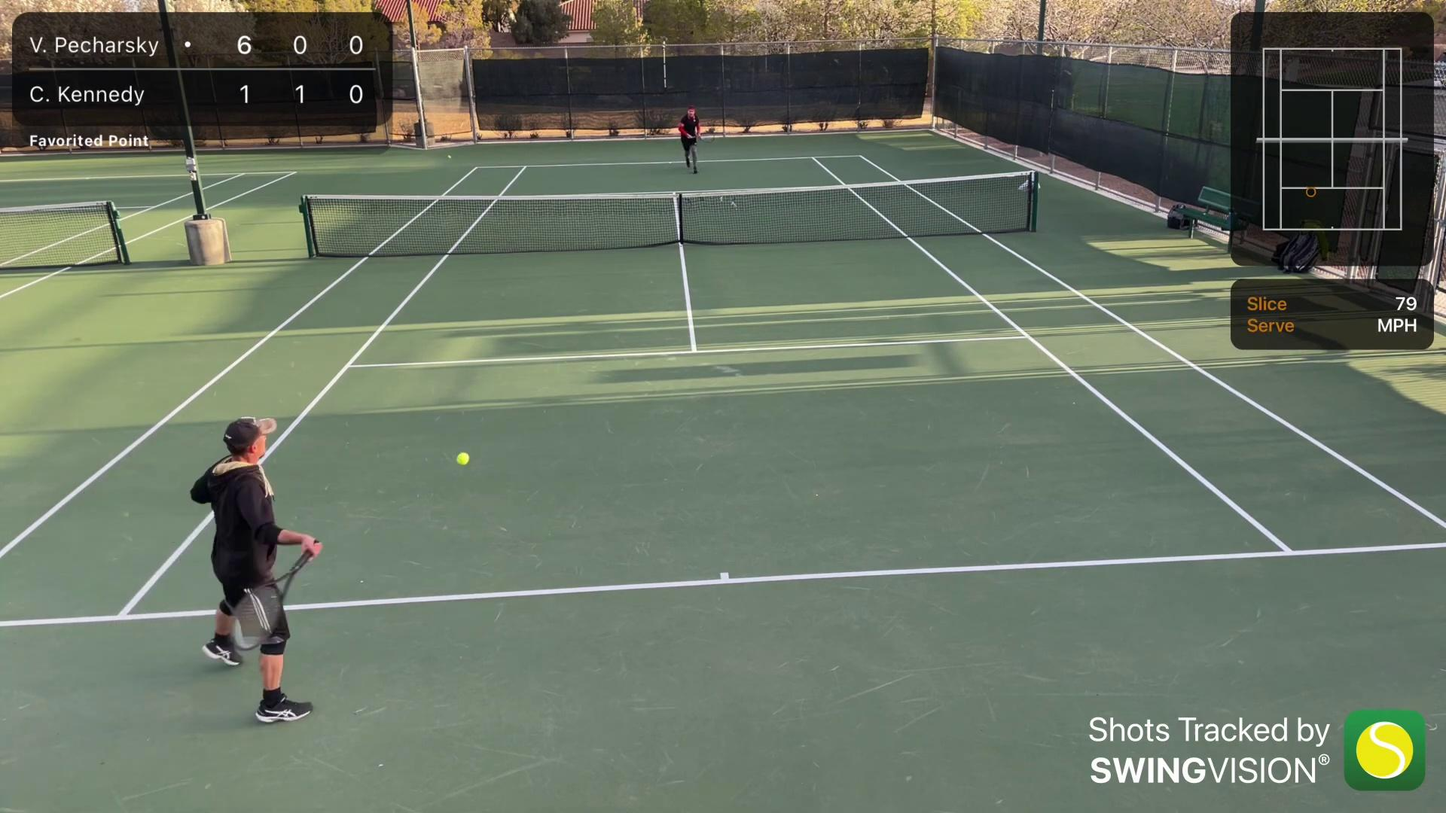ball: (455, 449, 473, 469), (447, 154, 453, 159)
